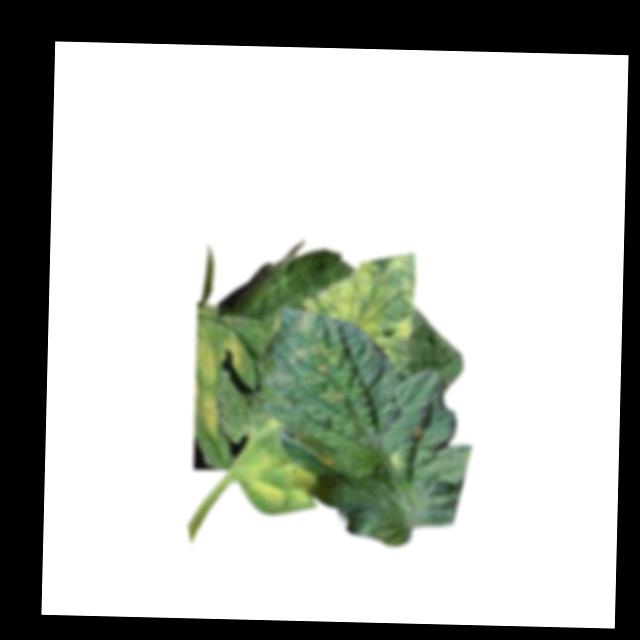Leaf_Mold: (301, 249, 416, 360), (243, 451, 318, 514), (281, 314, 346, 376), (197, 389, 224, 441), (194, 338, 217, 389), (313, 379, 348, 407), (219, 337, 241, 370), (317, 445, 339, 469), (389, 446, 405, 472)
